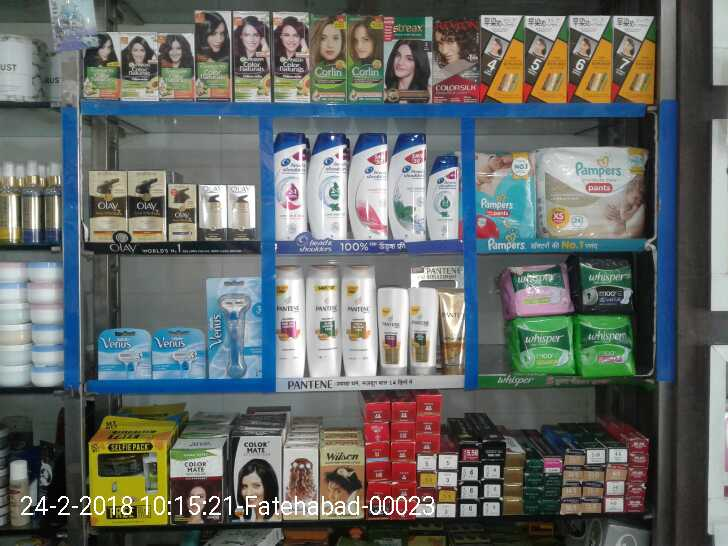venus: (207, 278, 261, 378), (97, 330, 153, 379), (153, 330, 207, 378)
